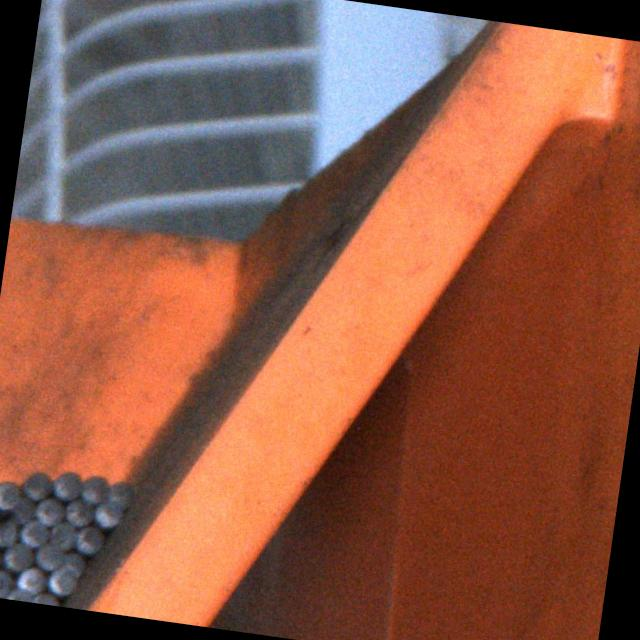tool: (52, 468, 84, 501), (2, 540, 35, 572), (15, 566, 49, 596), (23, 468, 53, 501), (34, 496, 66, 526), (48, 564, 78, 596), (80, 473, 110, 504), (74, 524, 104, 555), (48, 521, 78, 551), (106, 479, 136, 508), (64, 498, 95, 526), (33, 543, 64, 571), (20, 519, 50, 547), (94, 500, 122, 528), (10, 497, 36, 525), (0, 479, 21, 509), (60, 552, 86, 576), (0, 516, 19, 547), (31, 590, 60, 606), (5, 586, 32, 602), (0, 568, 14, 597)
